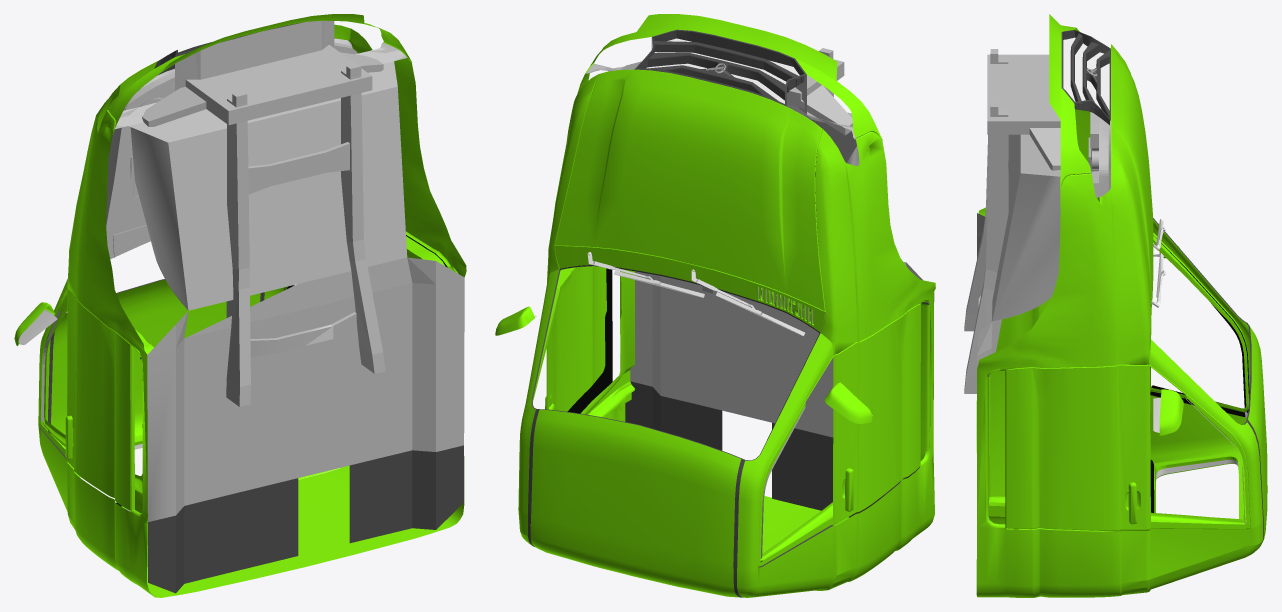
The model's file is UazAvionBody.dae.
The picture shows the model from 3 angles, left to right: view 1: azimuth 30°, elevation 25°; view 2: azimuth 150°, elevation 25°; view 3: azimuth 270°, elevation 25°; orthographic projection. The views are drawn at different scales.
Visible parts, largest first — view 1: body, door_rf_ok, bump_front_ok; view 2: body, bonnet_ok, door_rf_ok, door_rf_ok.002, bump_front_ok; view 3: body, door_rf_ok.002, bonnet_ok, bump_front_ok, door_rf_ok.
Part boxes in pixels (x1=…): body: x1=38, y1=20, x2=466, y2=597; door_rf_ok: x1=14, y1=288, x2=134, y2=510; bump_front_ok: x1=107, y1=14, x2=411, y2=134; body: x1=518, y1=29, x2=935, y2=597; bonnet_ok: x1=555, y1=69, x2=825, y2=311; door_rf_ok: x1=758, y1=303, x2=920, y2=566; door_rf_ok.002: x1=495, y1=265, x2=612, y2=413; bump_front_ok: x1=586, y1=14, x2=882, y2=140; body: x1=964, y1=30, x2=1267, y2=597; door_rf_ok.002: x1=1005, y1=364, x2=1250, y2=530; bonnet_ok: x1=1111, y1=44, x2=1153, y2=318; bump_front_ok: x1=1049, y1=14, x2=1091, y2=188; door_rf_ok: x1=1017, y1=233, x2=1249, y2=417.
Bounding box in the file's own units: 2.36 × 1.71 × 3.03.
